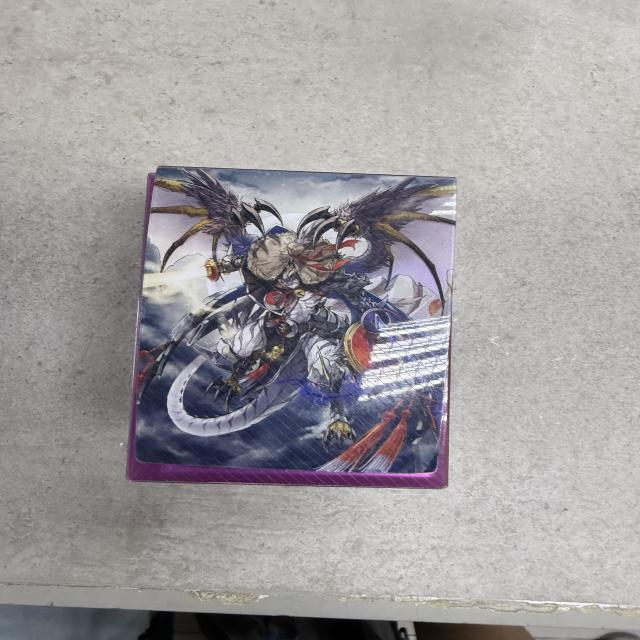box: (131, 162, 448, 488)
